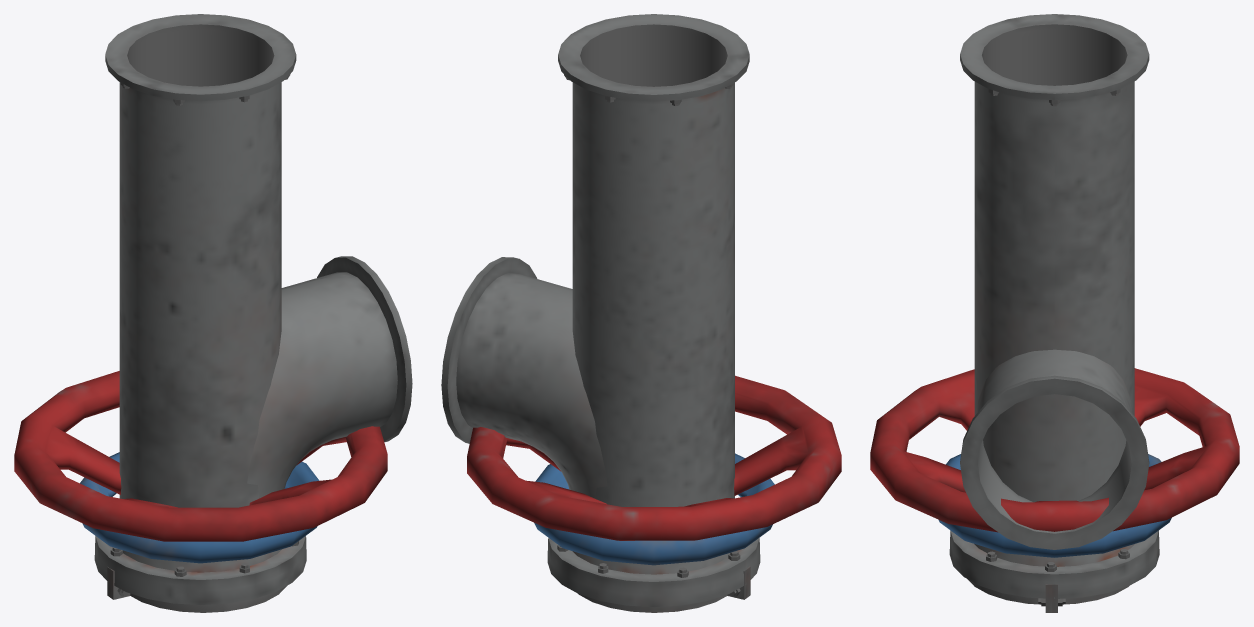
File: large_modular_pipes_metal.glb
3 renders of one model, left to right at view 1: azimuth 30°, elevation 25°; view 2: azimuth 150°, elevation 25°; view 3: azimuth 270°, elevation 25°, orthographic.
Visible parts, largest first — view 1: Pipe_Straight4_ModularPipes_Large_0, Pipe_RoundElbow_ModularPipes_Large_0, Pipe_BigValve_ModularPipes_Large_0, Pipe_WallConnector_ModularPipes_Large_0, Pipe_SmallValve_ModularPipes_Large_0, Pipe_Clamp_ModularPipes_Large_0; view 2: Pipe_Straight4_ModularPipes_Large_0, Pipe_RoundElbow_ModularPipes_Large_0, Pipe_BigValve_ModularPipes_Large_0, Pipe_WallConnector_ModularPipes_Large_0, Pipe_SmallValve_ModularPipes_Large_0, Pipe_Clamp_ModularPipes_Large_0; view 3: Pipe_Straight4_ModularPipes_Large_0, Pipe_BigValve_ModularPipes_Large_0, Pipe_RoundElbow_ModularPipes_Large_0, Pipe_WallConnector_ModularPipes_Large_0, Pipe_SmallValve_ModularPipes_Large_0, Pipe_Clamp_ModularPipes_Large_0.
Boxes of the visible parts, <box> form: Pipe_Straight4_ModularPipes_Large_0: <box>105,14,296,507</box>; Pipe_RoundElbow_ModularPipes_Large_0: <box>247,256,412,498</box>; Pipe_BigValve_ModularPipes_Large_0: <box>14,371,387,541</box>; Pipe_WallConnector_ModularPipes_Large_0: <box>94,536,306,604</box>; Pipe_SmallValve_ModularPipes_Large_0: <box>80,452,319,563</box>; Pipe_Clamp_ModularPipes_Large_0: <box>107,567,287,612</box>; Pipe_Straight4_ModularPipes_Large_0: <box>558,14,749,506</box>; Pipe_RoundElbow_ModularPipes_Large_0: <box>441,257,607,498</box>; Pipe_BigValve_ModularPipes_Large_0: <box>467,375,841,540</box>; Pipe_WallConnector_ModularPipes_Large_0: <box>547,538,760,606</box>; Pipe_SmallValve_ModularPipes_Large_0: <box>534,453,774,565</box>; Pipe_Clamp_ModularPipes_Large_0: <box>578,566,750,612</box>; Pipe_Straight4_ModularPipes_Large_0: <box>960,14,1149,502</box>; Pipe_BigValve_ModularPipes_Large_0: <box>870,368,1239,532</box>; Pipe_RoundElbow_ModularPipes_Large_0: <box>960,349,1149,549</box>; Pipe_WallConnector_ModularPipes_Large_0: <box>949,530,1159,598</box>; Pipe_SmallValve_ModularPipes_Large_0: <box>938,454,1171,557</box>; Pipe_Clamp_ModularPipes_Large_0: <box>967,579,1128,612</box>.
Size of the model in its own units: 4.72 by 7.17 by 4.67.
Materials: 1 (1 with a texture image).
